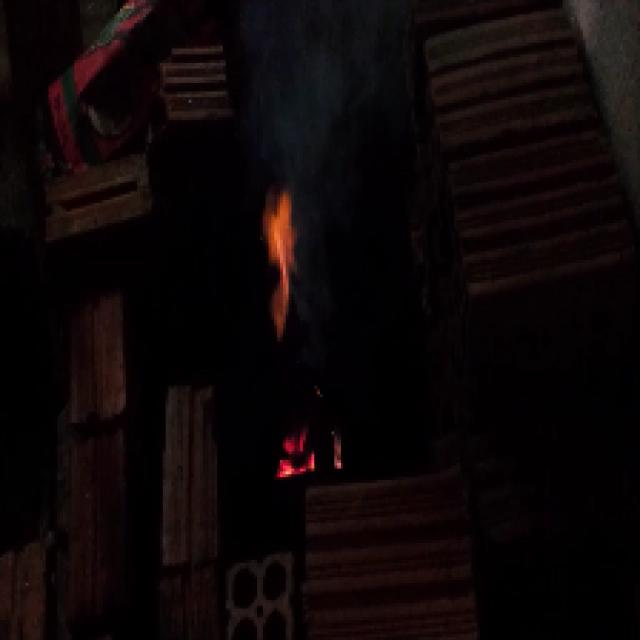fire: (260, 195, 291, 338)
smoke: (251, 11, 361, 179)
